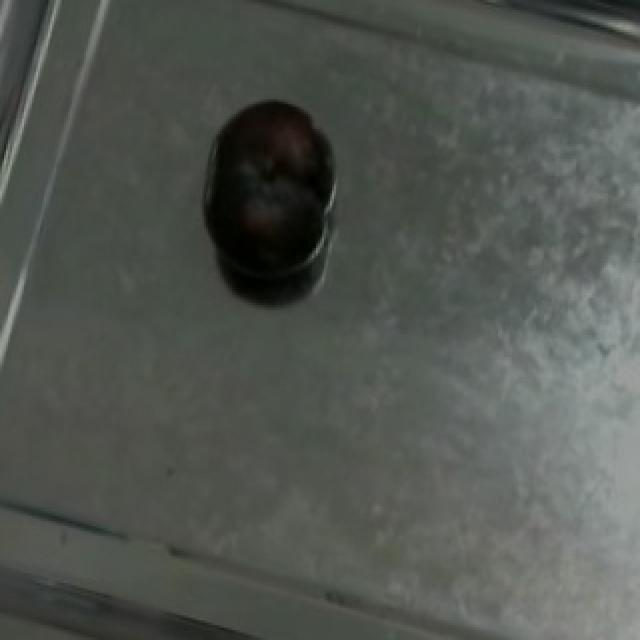Fruit: (196, 77, 342, 295)
